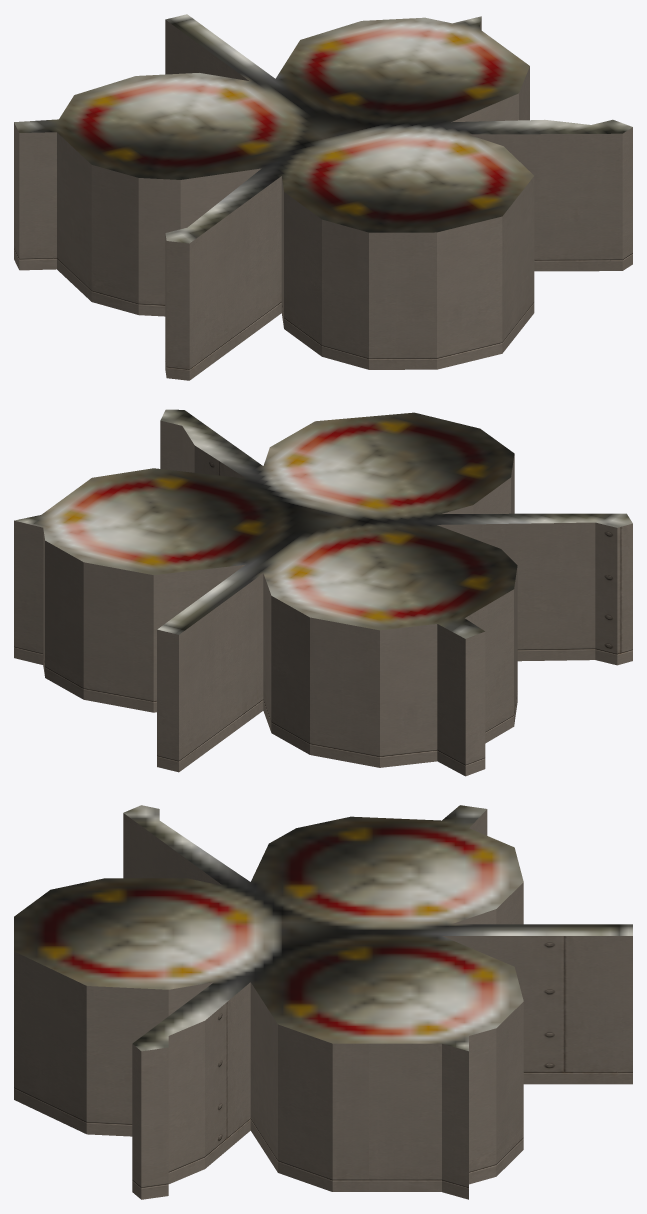
File: fuel_tank_light_55.glb
3 views of the same model, one above another, from view 1: azimuth 30°, elevation 25°; view 2: azimuth 150°, elevation 25°; view 3: azimuth 270°, elevation 25° (orthographic). The views are drawn at different scales.
Parts seen in each view (by area): view 1: buildings/saxarba/fuel_tanks/fuel_tank_light_55; view 2: buildings/saxarba/fuel_tanks/fuel_tank_light_55; view 3: buildings/saxarba/fuel_tanks/fuel_tank_light_55.
Part boxes in pixels (x1,y1,x2,y2): buildings/saxarba/fuel_tanks/fuel_tank_light_55: (14,14,632,380); buildings/saxarba/fuel_tanks/fuel_tank_light_55: (14,409,632,776); buildings/saxarba/fuel_tanks/fuel_tank_light_55: (14,805,632,1199).
Size of the model in its own units: 64 by 18 by 68.
